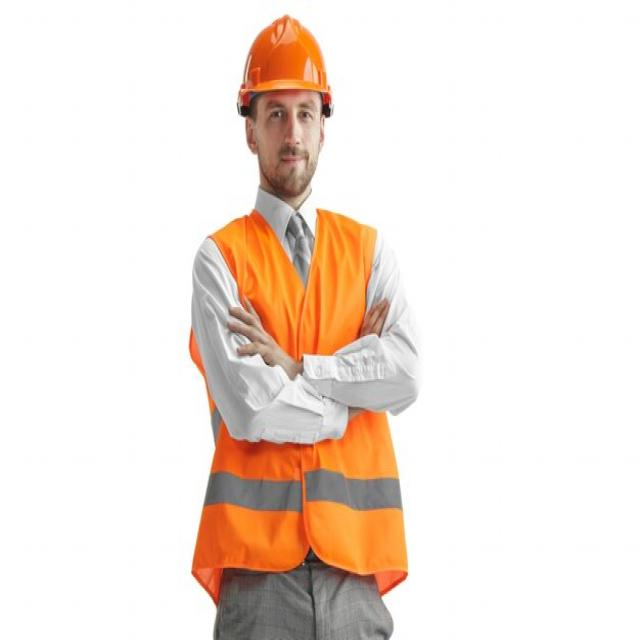Reflective-Jacket: (187, 215, 405, 585)
Safety-Helmet: (234, 12, 338, 115)
